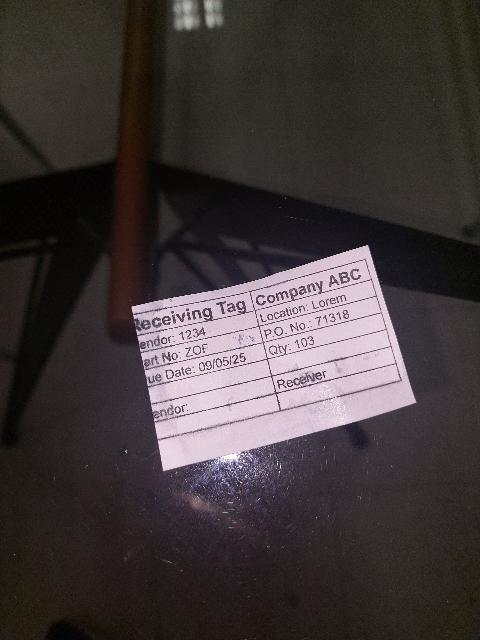PO no: (259, 297, 382, 344)
part no: (142, 327, 265, 371)
qty: (262, 313, 387, 363)
tags: (132, 246, 415, 473)
